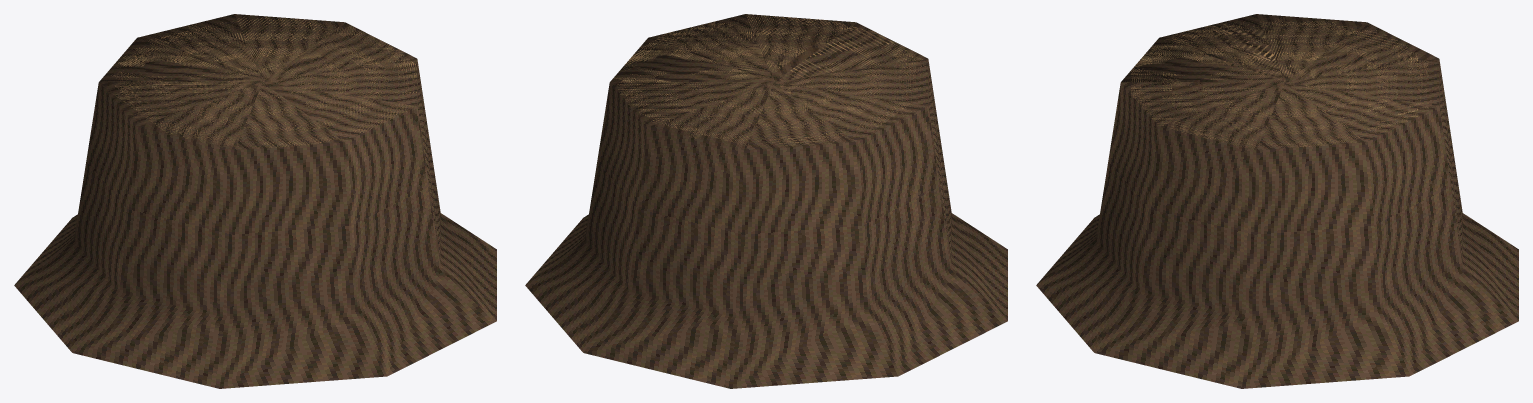
The model's file is tree_stump.glb.
The picture shows the model from 3 angles, left to right: view 1: azimuth 30°, elevation 25°; view 2: azimuth 150°, elevation 25°; view 3: azimuth 270°, elevation 25°; orthographic projection.
Parts seen in each view (by area): view 1: tree_stump; view 2: tree_stump; view 3: tree_stump.
Part boxes in pixels (x1,y1,x2,y2): tree_stump: (14,14,496,388); tree_stump: (525,14,1007,388); tree_stump: (1036,14,1518,388).
Size of the model in its own units: 0.9848 by 0.45 by 0.9698.
Materials: 2 (2 with a texture image).
